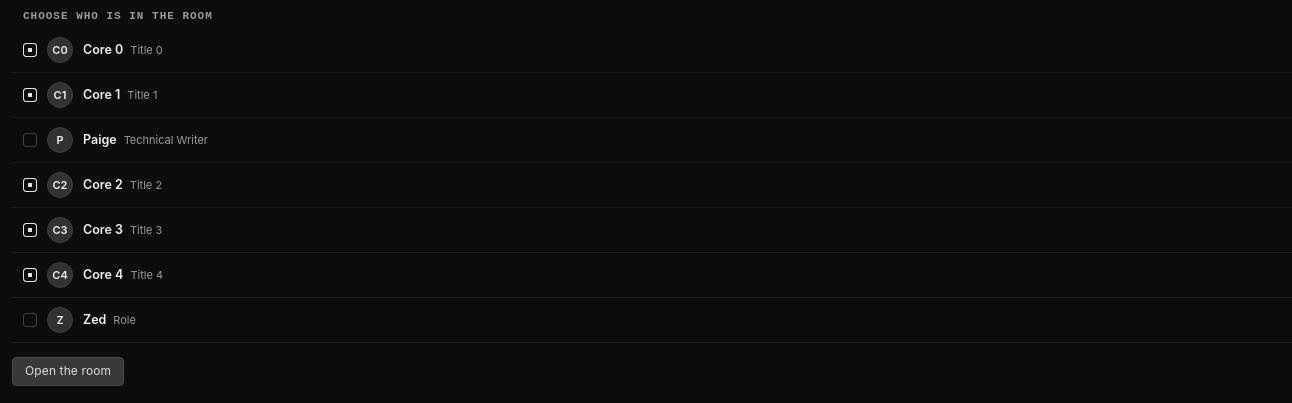
Test: CastChooser › disables the button with nobody ticked and sends nothing from it
This screenshot has width=1292, height=403.
Expected: the button with class "cast-chooser-open" is enabled, [12, 357, 124, 386]
Click the checkbox labelled "C0 Core 0 Title 0": point(30, 50) [23, 43, 37, 57]
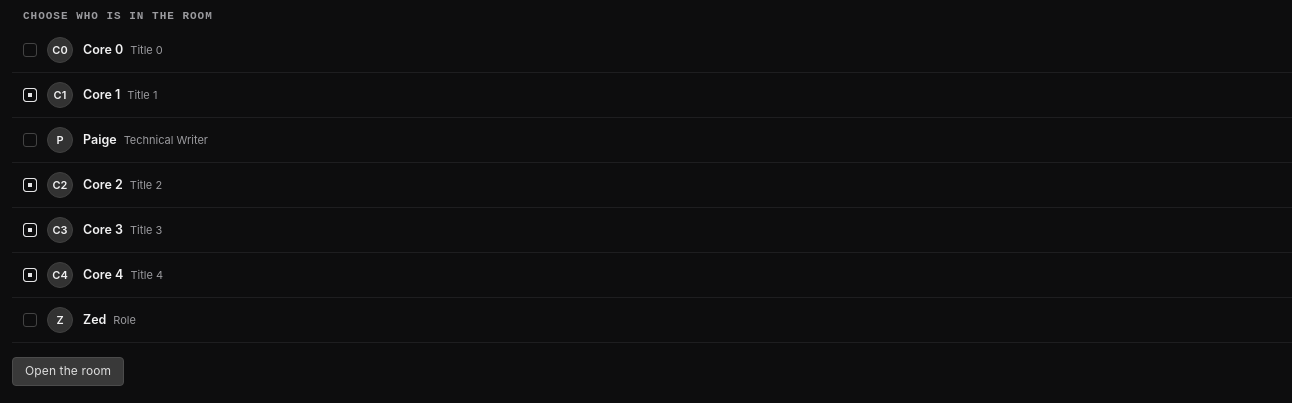
Click the checkbox labelled "C1 Core 1 Title 1": point(30, 95) [23, 88, 37, 102]
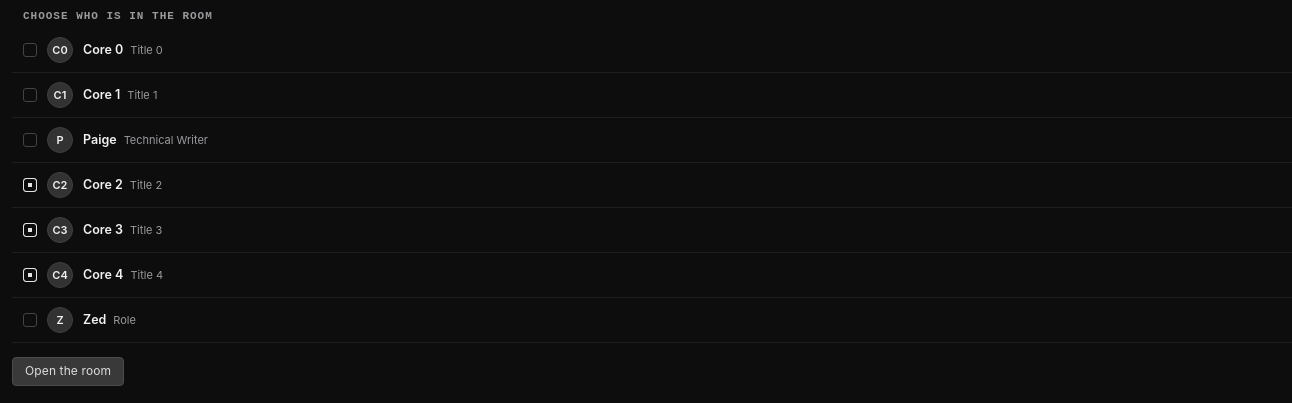
Click the checkbox labelled "C2 Core 2 Title 2": point(30, 185) [23, 178, 37, 192]
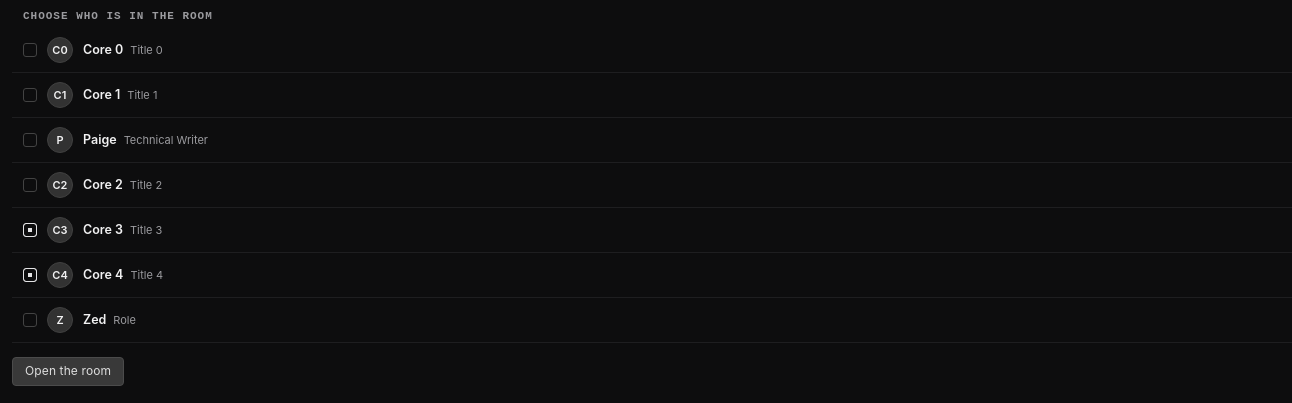
Click the checkbox labelled "C3 Core 3 Title 3": point(30, 230) [23, 223, 37, 237]
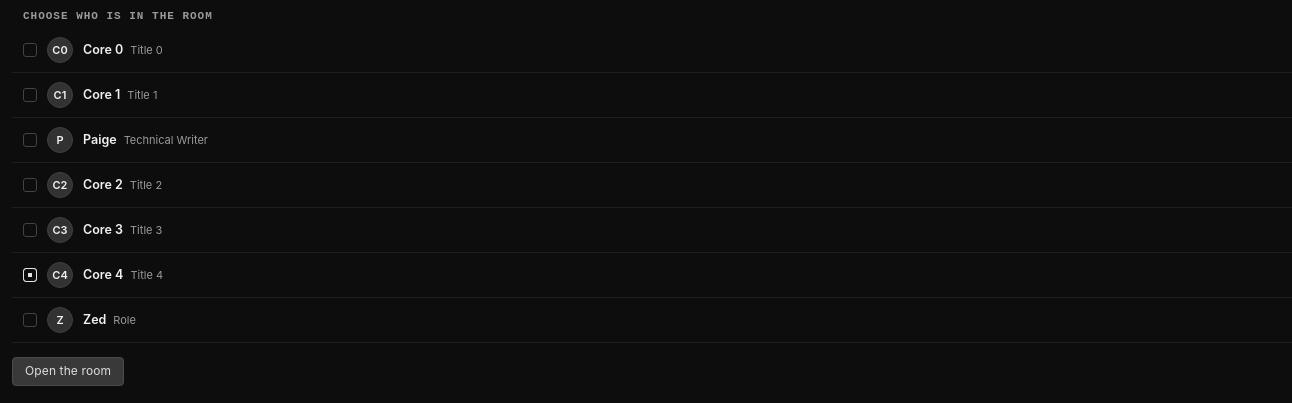
Click the checkbox labelled "C4 Core 4 Title 4": point(30, 275) [23, 268, 37, 282]
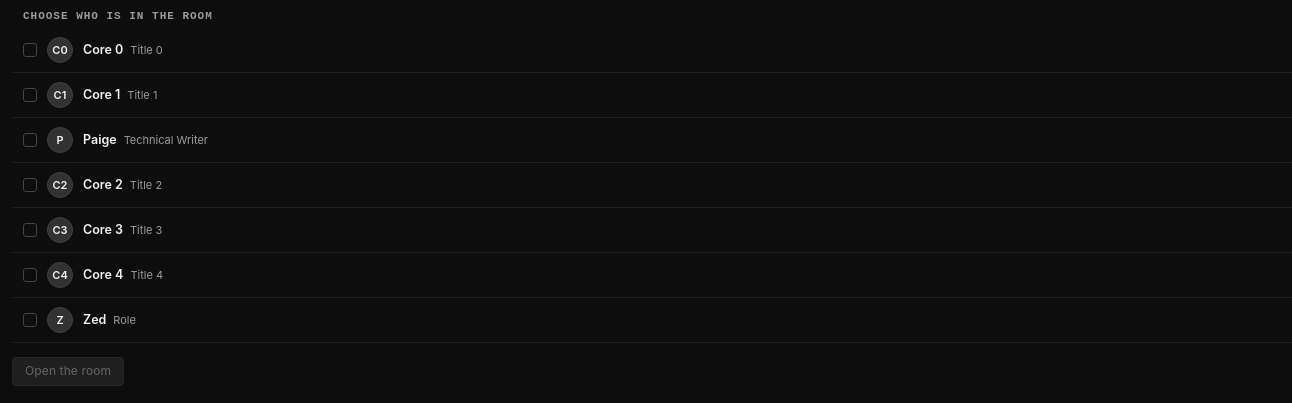
Result: the button with class "cast-chooser-open" is disabled at [12, 357, 124, 386]
